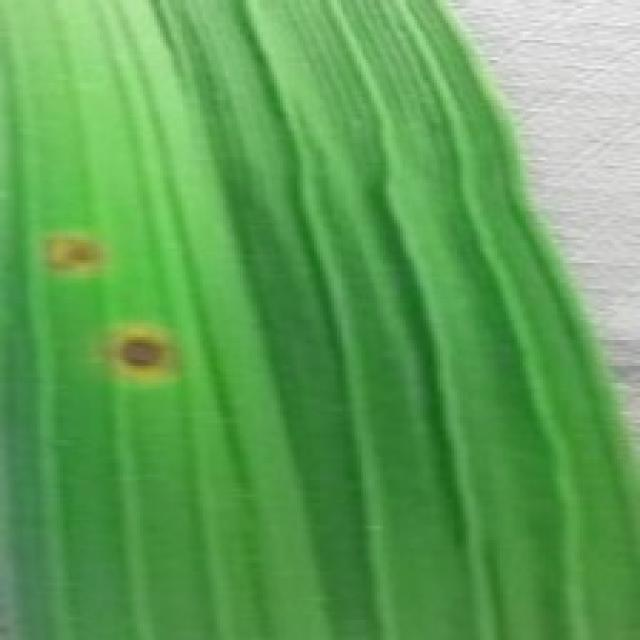Unhealthy: (97, 319, 183, 397), (38, 230, 112, 280)
